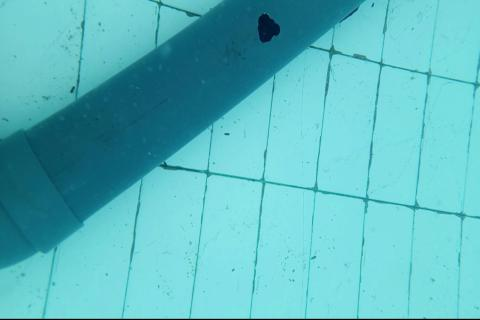kebocoran: (256, 12, 281, 45)
